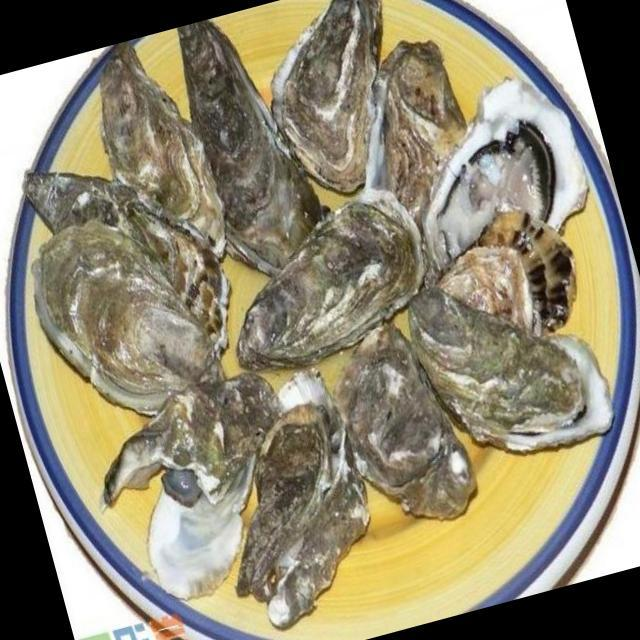Oyster- Indeterminate: (17, 126, 244, 392), (182, 362, 394, 640), (10, 190, 232, 439), (398, 245, 624, 483), (202, 175, 446, 381), (165, 2, 338, 286), (316, 310, 489, 542), (241, 0, 429, 210), (78, 28, 231, 276), (324, 29, 490, 235), (420, 194, 590, 354)
Oyster-Open: (68, 360, 324, 625), (386, 61, 602, 280)
